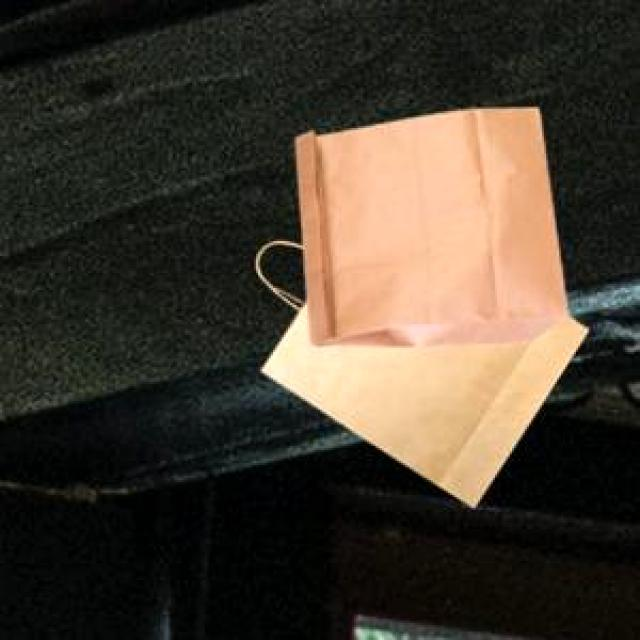Paper_Bag: (259, 298, 586, 504), (294, 105, 564, 342)
